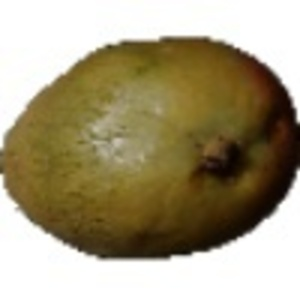mamão: (2, 25, 297, 266)
